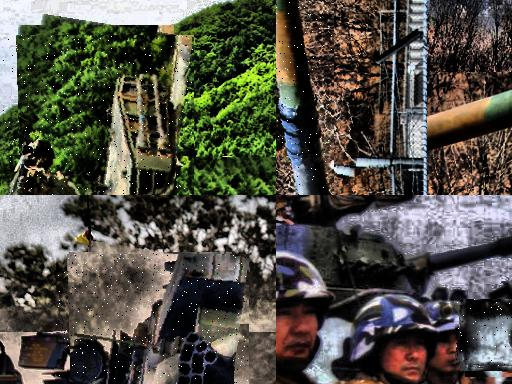tanks: (277, 196, 512, 384), (18, 36, 194, 196), (71, 255, 249, 384), (277, 1, 330, 196), (457, 300, 512, 368)
